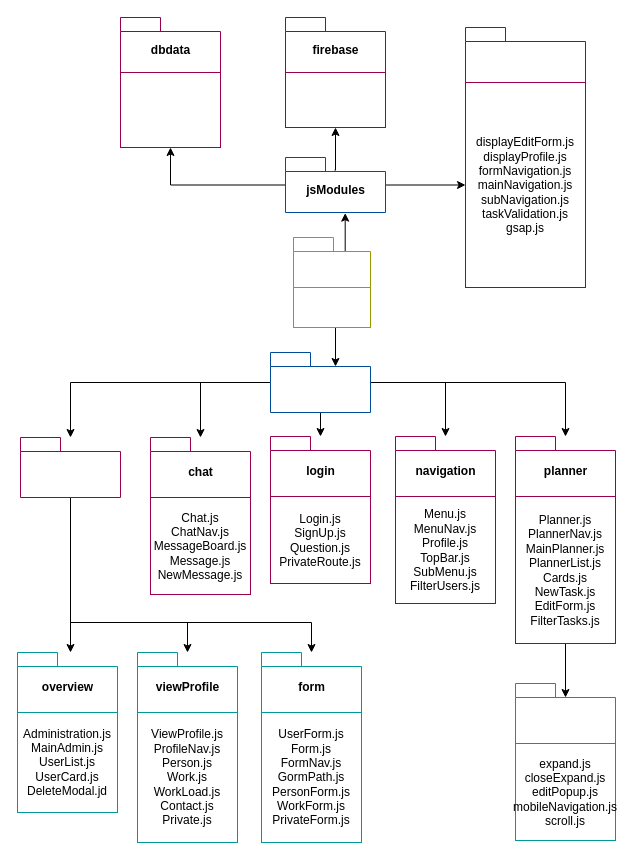
This 635x860 diagram has some shape labels left out. Here are the shapes that lost their labels. From the top down, the centre of each, then its label:
[525,54]: displayFunctions
[170,110]: getData.js postData.js deleteData.js editData.js
[335,100]: auth.js firebase.js
[331,262]: src
[331,307]: App.js index.js
[320,382]: componentes
[70,467]: administration
[565,713]: modules
